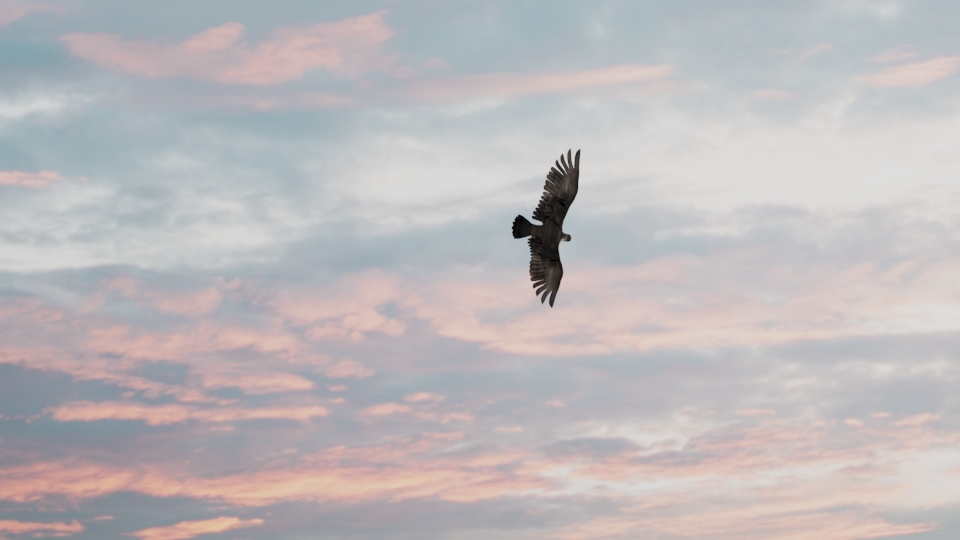bird: (511, 147, 582, 309)
